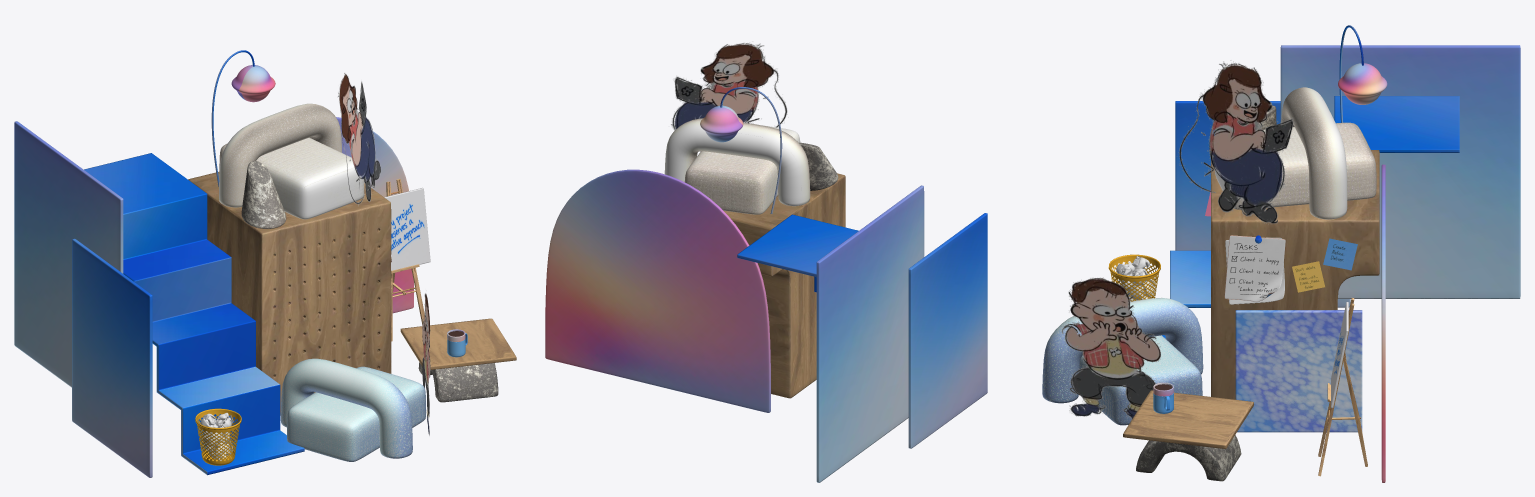
The model's file is Room.glb.
The picture shows the model from 3 angles, left to right: view 1: azimuth 30°, elevation 25°; view 2: azimuth 150°, elevation 25°; view 3: azimuth 270°, elevation 25°; orthographic projection. The views are drawn at different scales.
Parts seen in each view (by area): view 1: ladder, wood, plane.b, plane.s, chair_blue, Cylinder.002, chair_white, Cylinder.001, Circle.002, Plane.001, canvas.001, circle (+7 smaller); view 2: circle, plane.b, plane.s, wood, Cylinder.001, Plane.001, chair_white, ladder, Sphere, table-cylinder; view 3: plane.b, canvas, wood, Plane.001, Plane, ladder, plane.s, Cylinder.002, Cylinder.001, Circle.002, chair_white, Plane.123 (+11 smaller).
Boxes of the visible parts, x1,y1,x2,y2 form: ladder: [84, 153, 304, 475]; wood: [188, 172, 391, 415]; plane.b: [14, 121, 123, 387]; plane.s: [72, 238, 152, 477]; chair_blue: [287, 366, 425, 461]; Cylinder.002: [280, 358, 412, 458]; chair_white: [219, 137, 364, 219]; Cylinder.001: [219, 103, 341, 207]; Circle.002: [400, 318, 516, 369]; Plane.001: [337, 72, 380, 205]; canvas.001: [384, 188, 430, 270]; circle: [336, 117, 413, 313]; circle: [545, 169, 770, 412]; plane.b: [816, 185, 924, 482]; plane.s: [908, 213, 987, 448]; wood: [723, 173, 845, 398]; Cylinder.001: [664, 118, 810, 206]; Plane.001: [671, 41, 788, 151]; chair_white: [684, 125, 800, 214]; ladder: [737, 214, 858, 292]; Sphere: [700, 105, 743, 142]; table-cylinder: [799, 142, 838, 190]; plane.b: [1280, 45, 1520, 298]; canvas: [1235, 310, 1362, 432]; wood: [1211, 150, 1379, 399]; Plane.001: [1178, 60, 1295, 224]; Plane: [1060, 277, 1160, 420]; ladder: [1162, 96, 1459, 338]; plane.s: [1175, 101, 1350, 307]; Cylinder.002: [1042, 297, 1203, 403]; Cylinder.001: [1281, 87, 1347, 219]; Circle.002: [1123, 390, 1253, 448]; chair_white: [1214, 122, 1376, 209]; Plane.123: [1224, 235, 1285, 301].
Size of the model in its own units: 5.63 by 5.17 by 5.98.
Materials: 22 (19 with a texture image).
